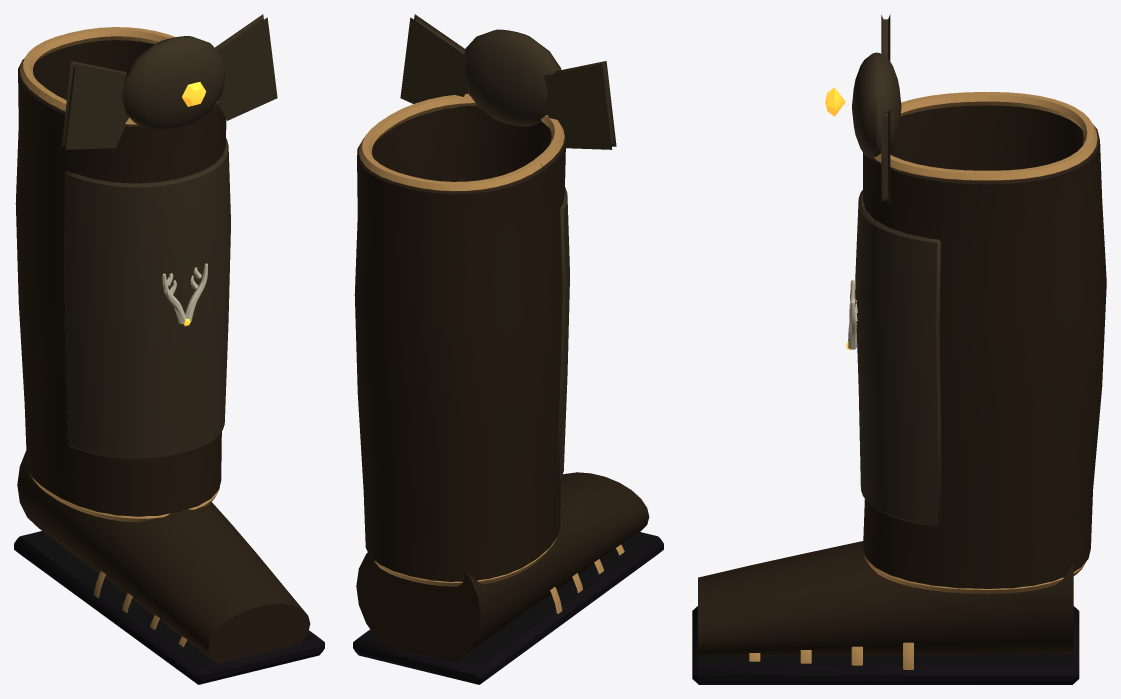
Rendered from asc_wildroot_hunter_boots_R.glb.
3 renders of one model, left to right at view 1: azimuth 30°, elevation 25°; view 2: azimuth 150°, elevation 25°; view 3: azimuth 270°, elevation 25°, orthographic. The views are drawn at different scales.
Visible parts, largest first — view 1: asc_wildroot_hunter_boots, AT_foot_R; view 2: asc_wildroot_hunter_boots, AT_foot_R; view 3: asc_wildroot_hunter_boots, AT_foot_R.
Boxes of the visible parts, left/top/right/bottom form: asc_wildroot_hunter_boots: left=15, top=14, right=277, bottom=522; AT_foot_R: left=14, top=451, right=324, bottom=684; asc_wildroot_hunter_boots: left=354, top=14, right=616, bottom=586; AT_foot_R: left=353, top=472, right=663, bottom=684; asc_wildroot_hunter_boots: left=825, top=14, right=1106, bottom=593; AT_foot_R: left=692, top=541, right=1079, bottom=684.
Size of the model in its own units: 0.2244 by 0.5768 by 0.3641.
